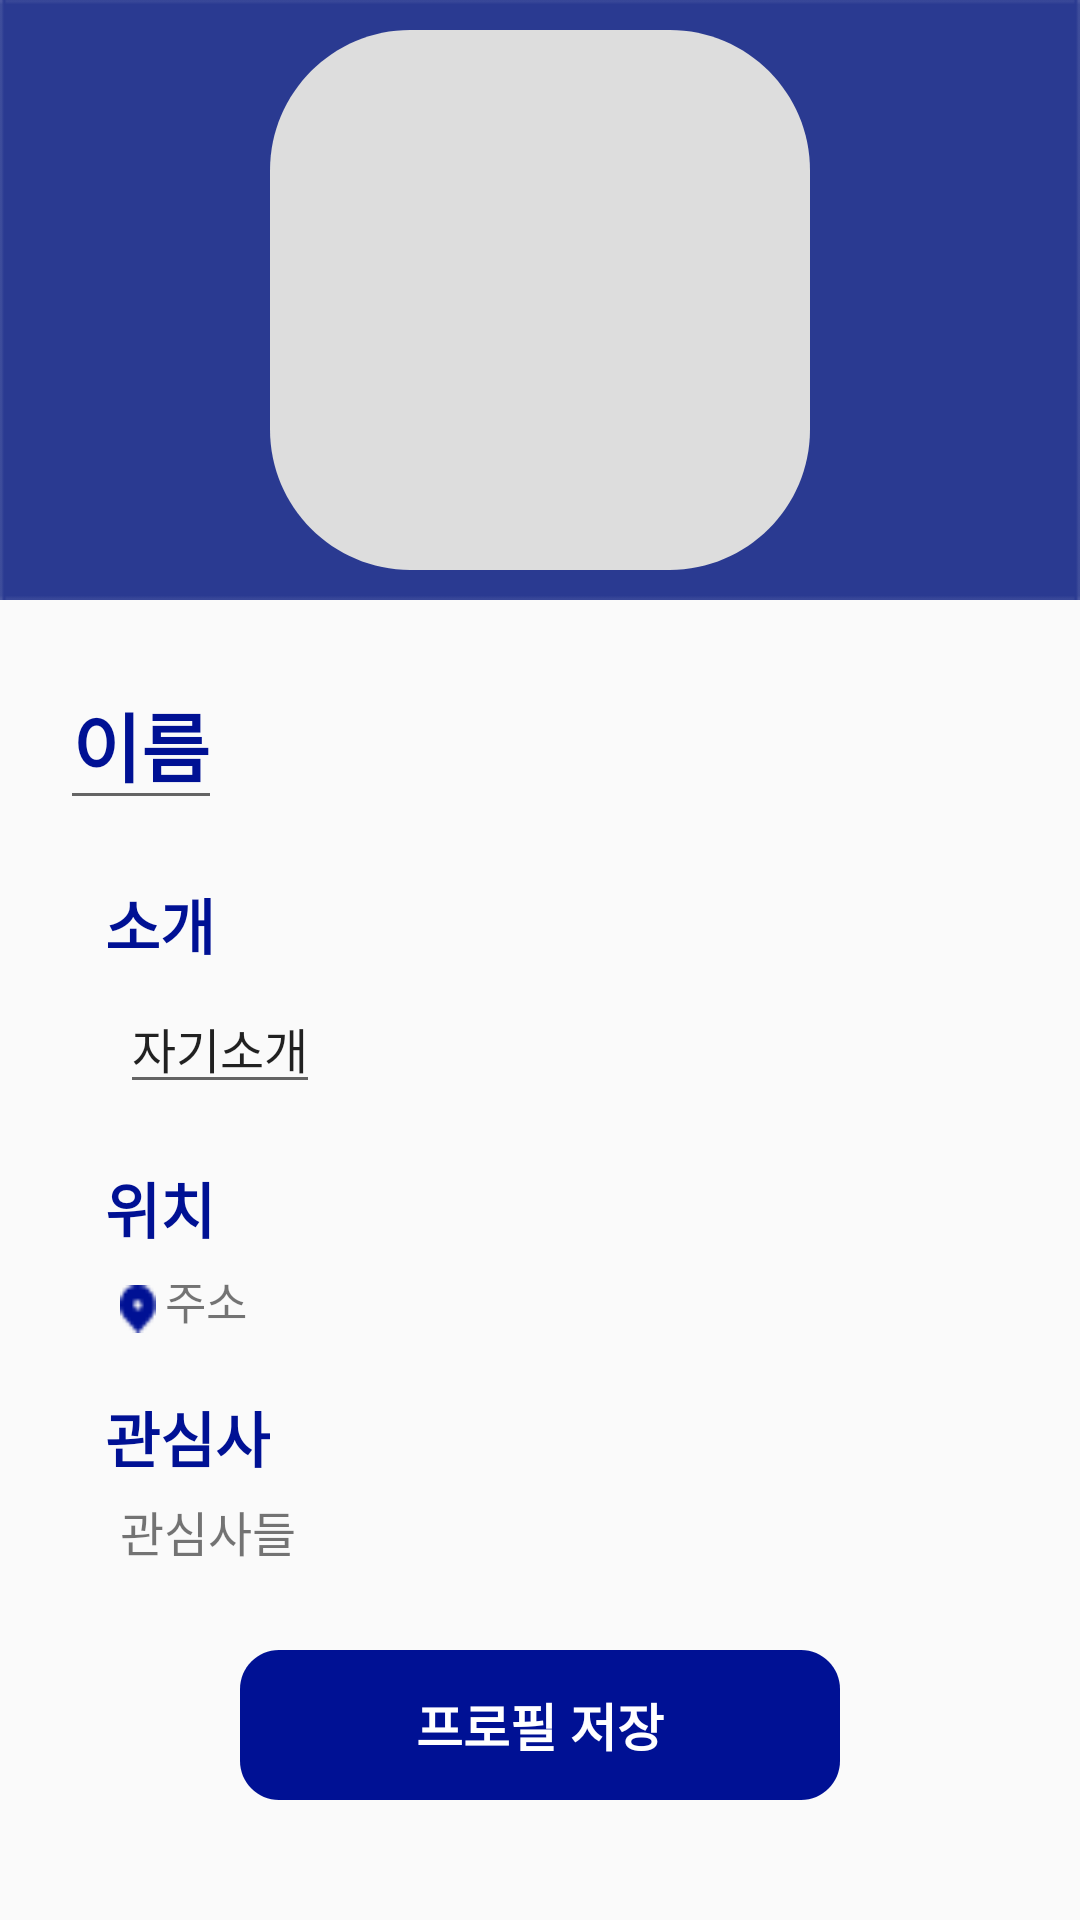

Icons on this 1080*1920 Android screen, each with its box as (x1, y1, x2, y2):
mappoint: (120, 1285, 156, 1333)
